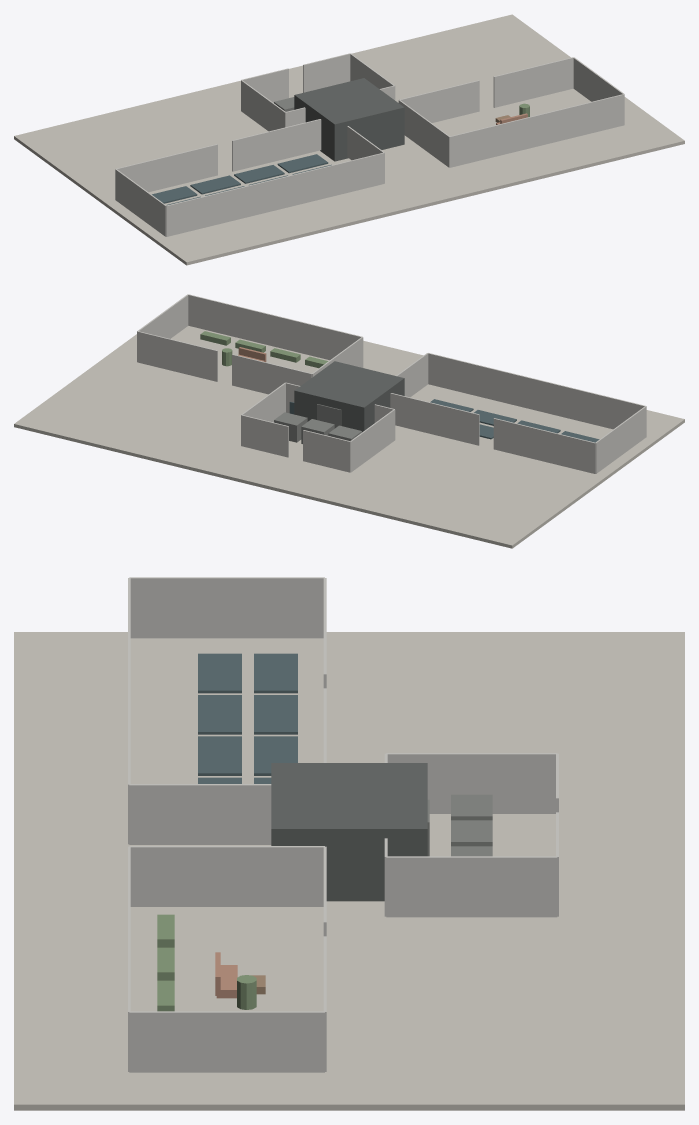
Rendered from ROOF.glb.
The picture shows the model from 3 angles, top to bottom: view 1: azimuth 30°, elevation 25°; view 2: azimuth 150°, elevation 25°; view 3: azimuth 270°, elevation 25°; orthographic projection. The views are drawn at different scales.
Parts seen in each view (by area): view 1: ROOF_slab, solar_north, ROOF_core, green_terrace_north, solar_south_r, solar_south_l, green_terrace_south_r, green_terrace_south_l, solar_west, green_terrace_west, mep_south_r, mep_west (+9 smaller); view 2: ROOF_slab, solar_north, green_terrace_north, ROOF_core, solar_south_l, solar_south_r, green_terrace_south_r, green_terrace_south_l, solar_west, mep_south_l, mep_south_r, mep_west (+8 smaller); view 3: ROOF_slab, ROOF_core, green_terrace_east, solar_west, green_terrace_west, mep_east, solar_east, mep_west, solar_panel_0_0, solar_panel_1_0, solar_panel_0_1, solar_panel_1_1 (+4 smaller).
Part boxes in pixels (x1=…): ROOF_slab: x1=14, y1=14, x2=684, y2=265; solar_north: x1=166, y1=152, x2=384, y2=236; ROOF_core: x1=294, y1=78, x2=404, y2=161; green_terrace_north: x1=449, y1=94, x2=624, y2=167; solar_south_r: x1=232, y1=119, x2=321, y2=171; solar_south_l: x1=116, y1=144, x2=217, y2=192; green_terrace_south_r: x1=493, y1=57, x2=573, y2=107; green_terrace_south_l: x1=399, y1=80, x2=479, y2=122; solar_west: x1=115, y1=169, x2=166, y2=236; green_terrace_west: x1=398, y1=100, x2=449, y2=167; mep_south_r: x1=303, y1=53, x2=350, y2=92; mep_west: x1=241, y1=80, x2=285, y2=131; ROOF_slab: x1=14, y1=326, x2=684, y2=548; solar_north: x1=428, y1=353, x2=645, y2=429; green_terrace_north: x1=188, y1=294, x2=362, y2=360; ROOF_core: x1=294, y1=361, x2=404, y2=432; solar_south_l: x1=493, y1=418, x2=595, y2=473; solar_south_r: x1=390, y1=393, x2=479, y2=445; green_terrace_south_r: x1=137, y1=331, x2=217, y2=381; green_terrace_south_l: x1=232, y1=354, x2=312, y2=394; solar_west: x1=595, y1=406, x2=646, y2=473; mep_south_l: x1=303, y1=430, x2=350, y2=472; mep_south_r: x1=241, y1=415, x2=288, y2=457; mep_west: x1=350, y1=409, x2=395, y2=472; ROOF_slab: x1=14, y1=632, x2=684, y2=1110; ROOF_core: x1=271, y1=763, x2=427, y2=901; green_terrace_east: x1=129, y1=1011, x2=324, y2=1072; solar_west: x1=129, y1=577, x2=324, y2=638; green_terrace_west: x1=129, y1=846, x2=324, y2=906; mep_east: x1=386, y1=856, x2=557, y2=917; solar_east: x1=129, y1=784, x2=271, y2=844; mep_west: x1=386, y1=753, x2=557, y2=813; solar_panel_0_0: x1=254, y1=653, x2=297, y2=693; solar_panel_1_0: x1=198, y1=653, x2=241, y2=693; solar_panel_0_1: x1=254, y1=695, x2=297, y2=734; solar_panel_1_1: x1=198, y1=695, x2=241, y2=734.
Bounding box in the file's own units: 45.72 × 3.54 × 27.43.
